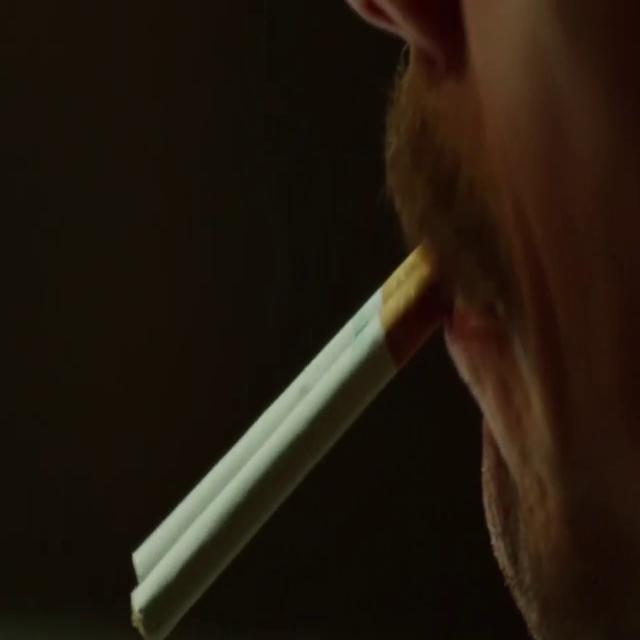Smooking: (109, 228, 474, 640)
